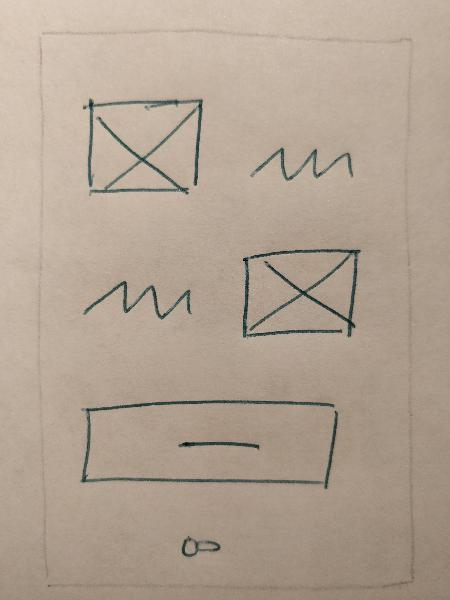button: (64, 391, 347, 499)
image: (71, 86, 217, 204), (231, 241, 370, 351)
switch: (166, 522, 237, 569)
text: (68, 269, 209, 330), (241, 134, 364, 194)
